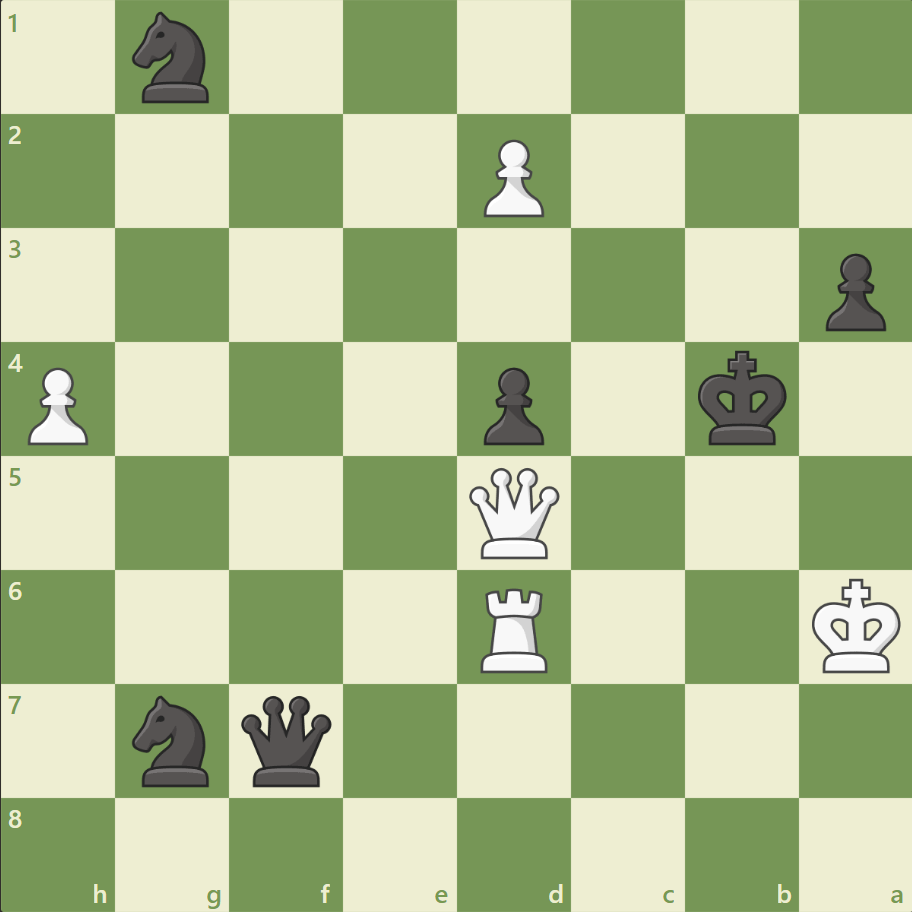K: (806, 571, 906, 679)
P: (20, 359, 95, 450), (474, 132, 549, 223)
Q: (464, 463, 563, 562)
R: (473, 579, 556, 676)
k: (692, 344, 792, 452)
n: (124, 688, 222, 791), (124, 7, 222, 110)
p: (474, 359, 549, 450), (815, 246, 889, 337)
q: (237, 690, 336, 789)
